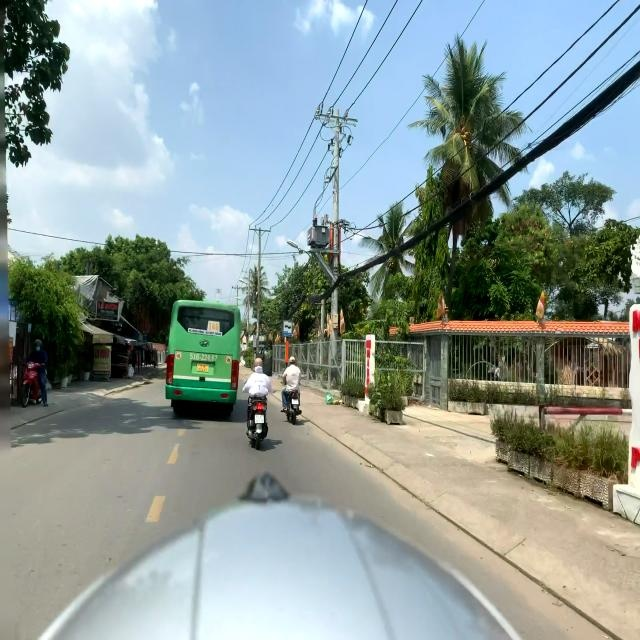bien_chi_dan: (283, 320, 292, 336)
